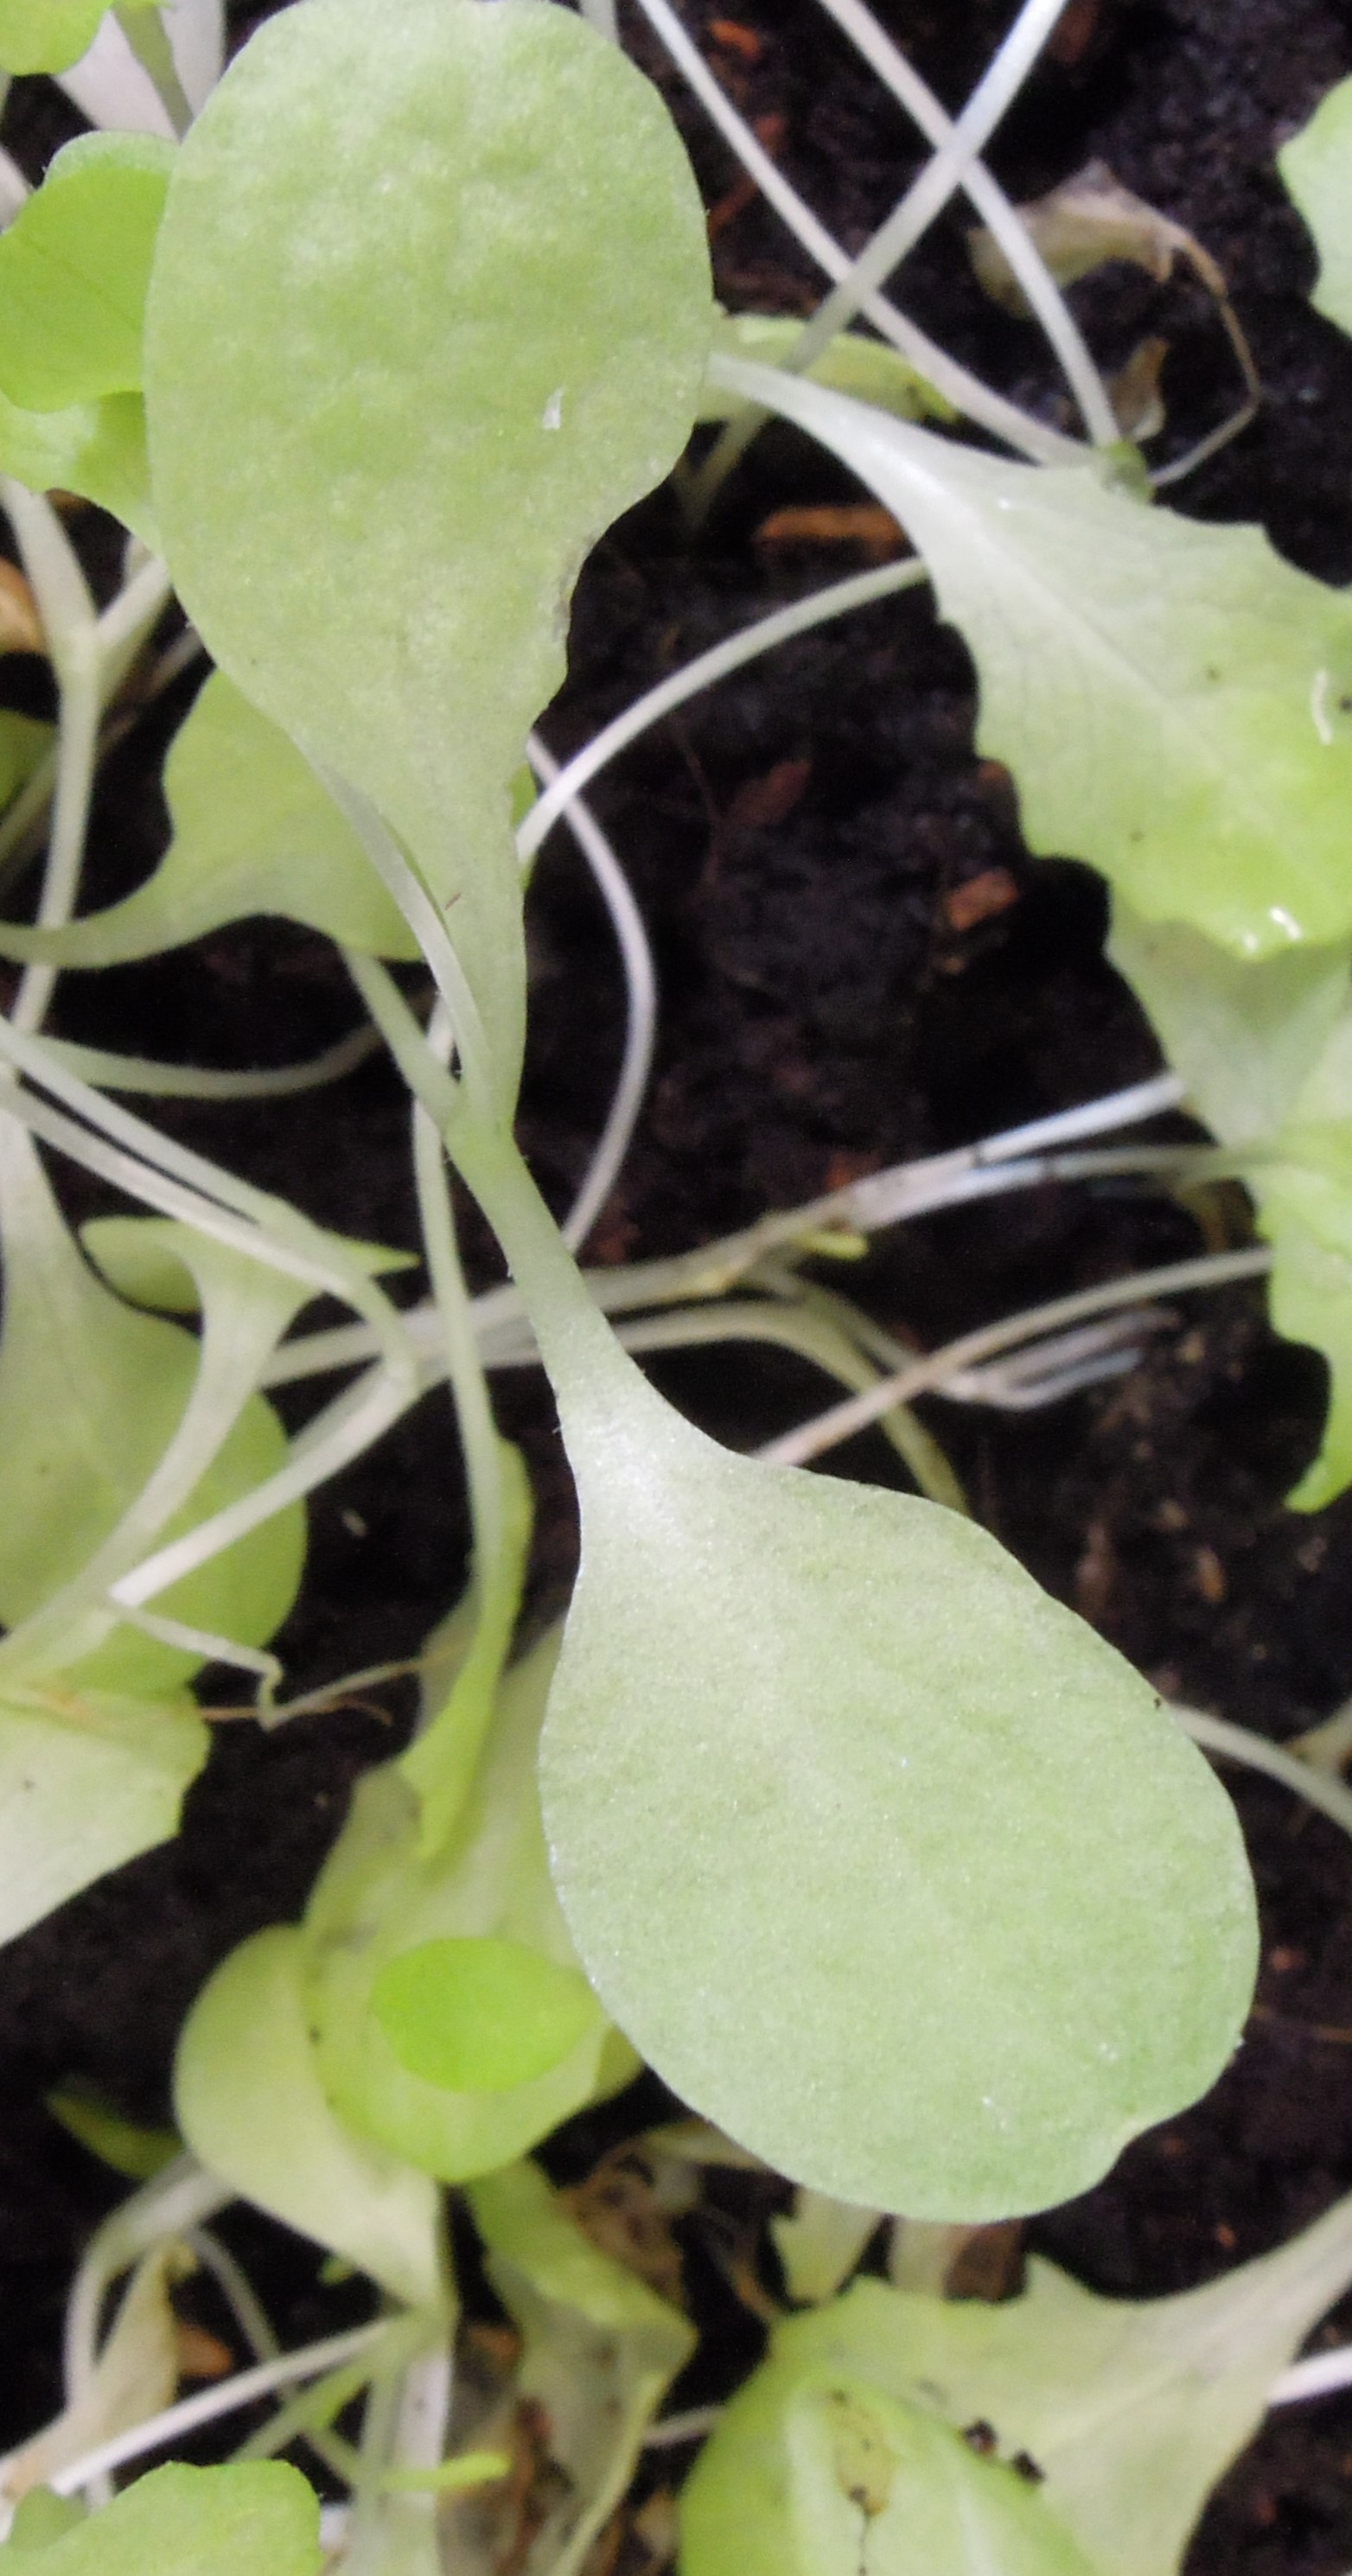week2: (417, 1128, 1265, 2240), (117, 7, 671, 1148)
